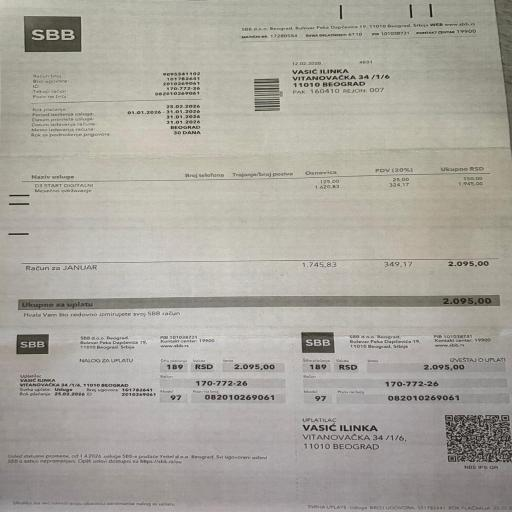sbb: (30, 103, 211, 142)
sbb_iznos: (24, 259, 500, 275)
sbb_uplatnica: (300, 356, 510, 408)
